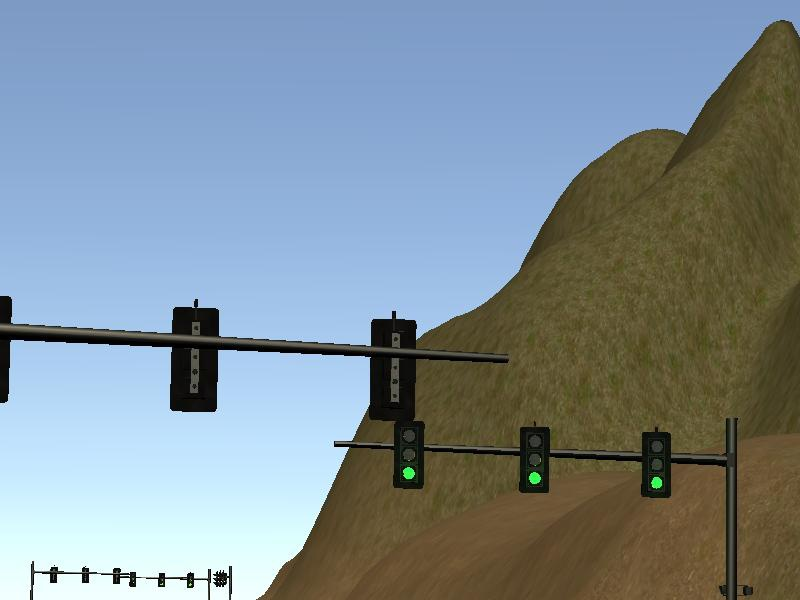Green: (394, 421, 424, 487), (520, 427, 549, 492), (642, 432, 670, 499), (187, 571, 193, 587), (158, 571, 164, 587)
Off: (130, 573, 135, 587)
